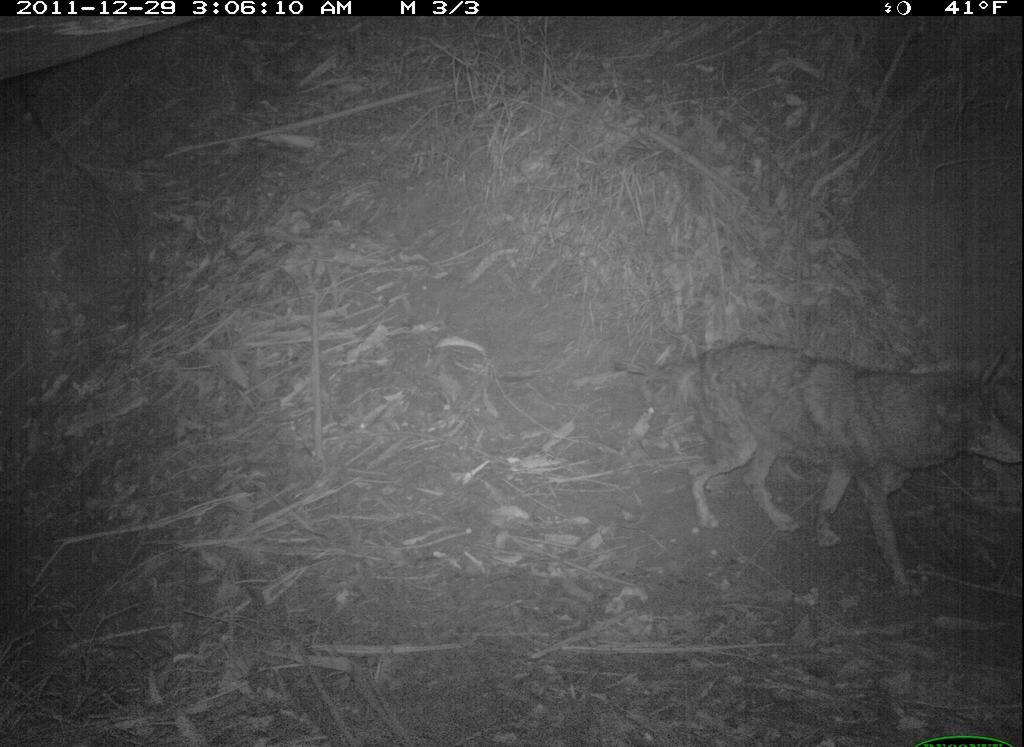coyote: (610, 336, 1016, 600)
